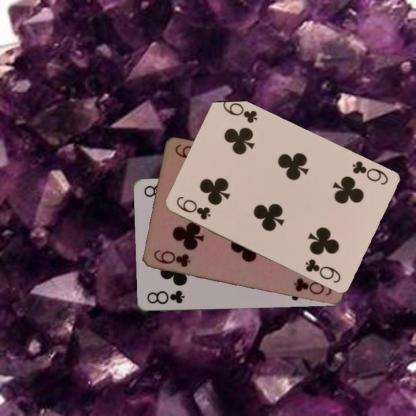6c: (348, 158, 389, 187), (174, 194, 212, 222), (150, 247, 192, 269)
8c: (144, 288, 186, 306)
